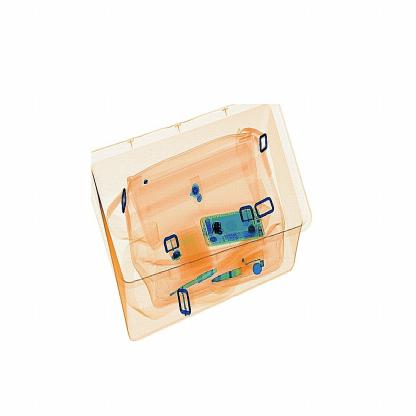scissors: (206, 216, 230, 247)
